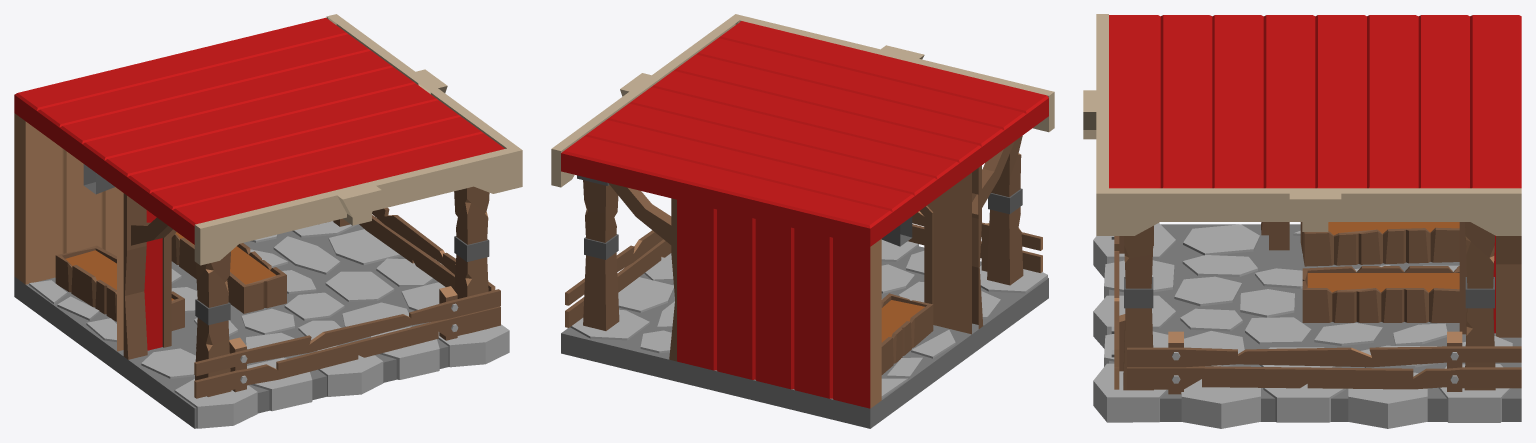
The model's file is Farm_Lvl_02_Corner_Right.fbx.
3 views of the same model, side by side, from view 1: azimuth 30°, elevation 25°; view 2: azimuth 150°, elevation 25°; view 3: azimuth 270°, elevation 25° (orthographic). The views are drawn at different scales.
Visible parts, largest first — view 1: Farm_Lvl_02_Corner_Right; view 2: Farm_Lvl_02_Corner_Right; view 3: Farm_Lvl_02_Corner_Right.
Part boxes in pixels (left/top/right/bottom): Farm_Lvl_02_Corner_Right: left=14, top=14, right=522, bottom=428; Farm_Lvl_02_Corner_Right: left=551, top=14, right=1054, bottom=428; Farm_Lvl_02_Corner_Right: left=1083, top=14, right=1521, bottom=428.
Size of the model in its own units: 8.5 by 5 by 8.5.
